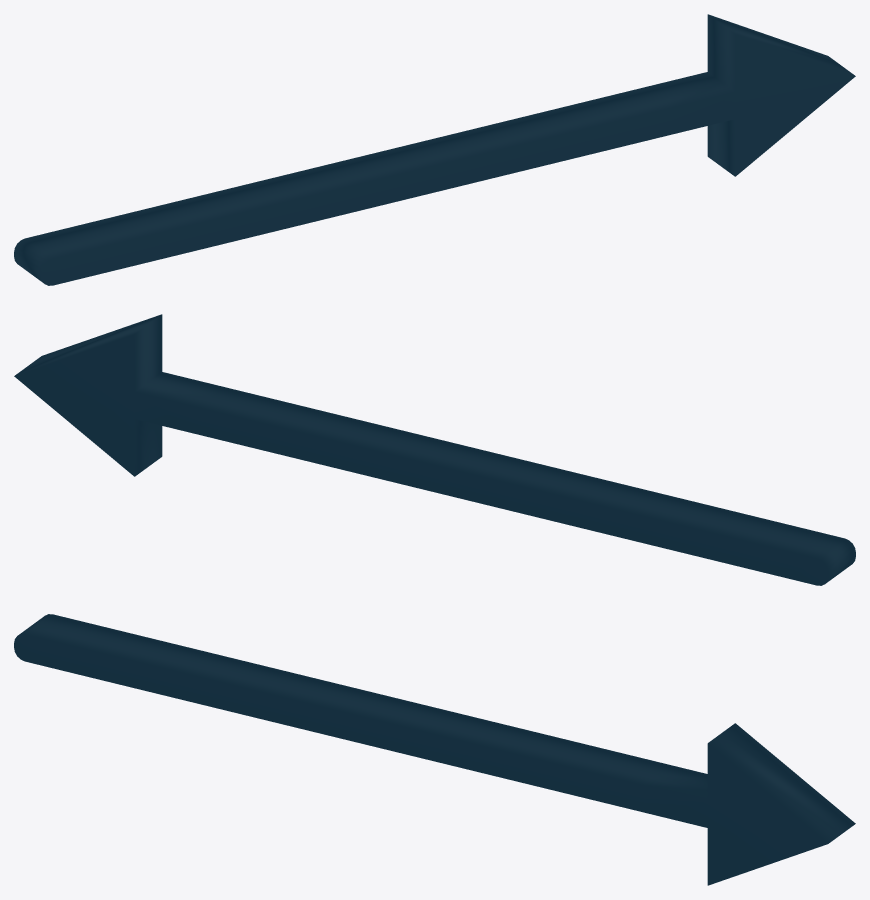
The model's file is arrow.gltf.
3 views of the same model, one above another, from view 1: azimuth 30°, elevation 25°; view 2: azimuth 150°, elevation 25°; view 3: azimuth 330°, elevation 25° (orthographic).
Parts seen in each view (by area): view 1: Plane.009; view 2: Plane.009; view 3: Plane.009.
Boxes of the visible parts, x1,y1,x2,y2 form: Plane.009: [14, 14, 855, 285]; Plane.009: [14, 314, 855, 585]; Plane.009: [14, 614, 855, 885].
Size of the model in its own units: 2.54 by 0.4254 by 0.15.
